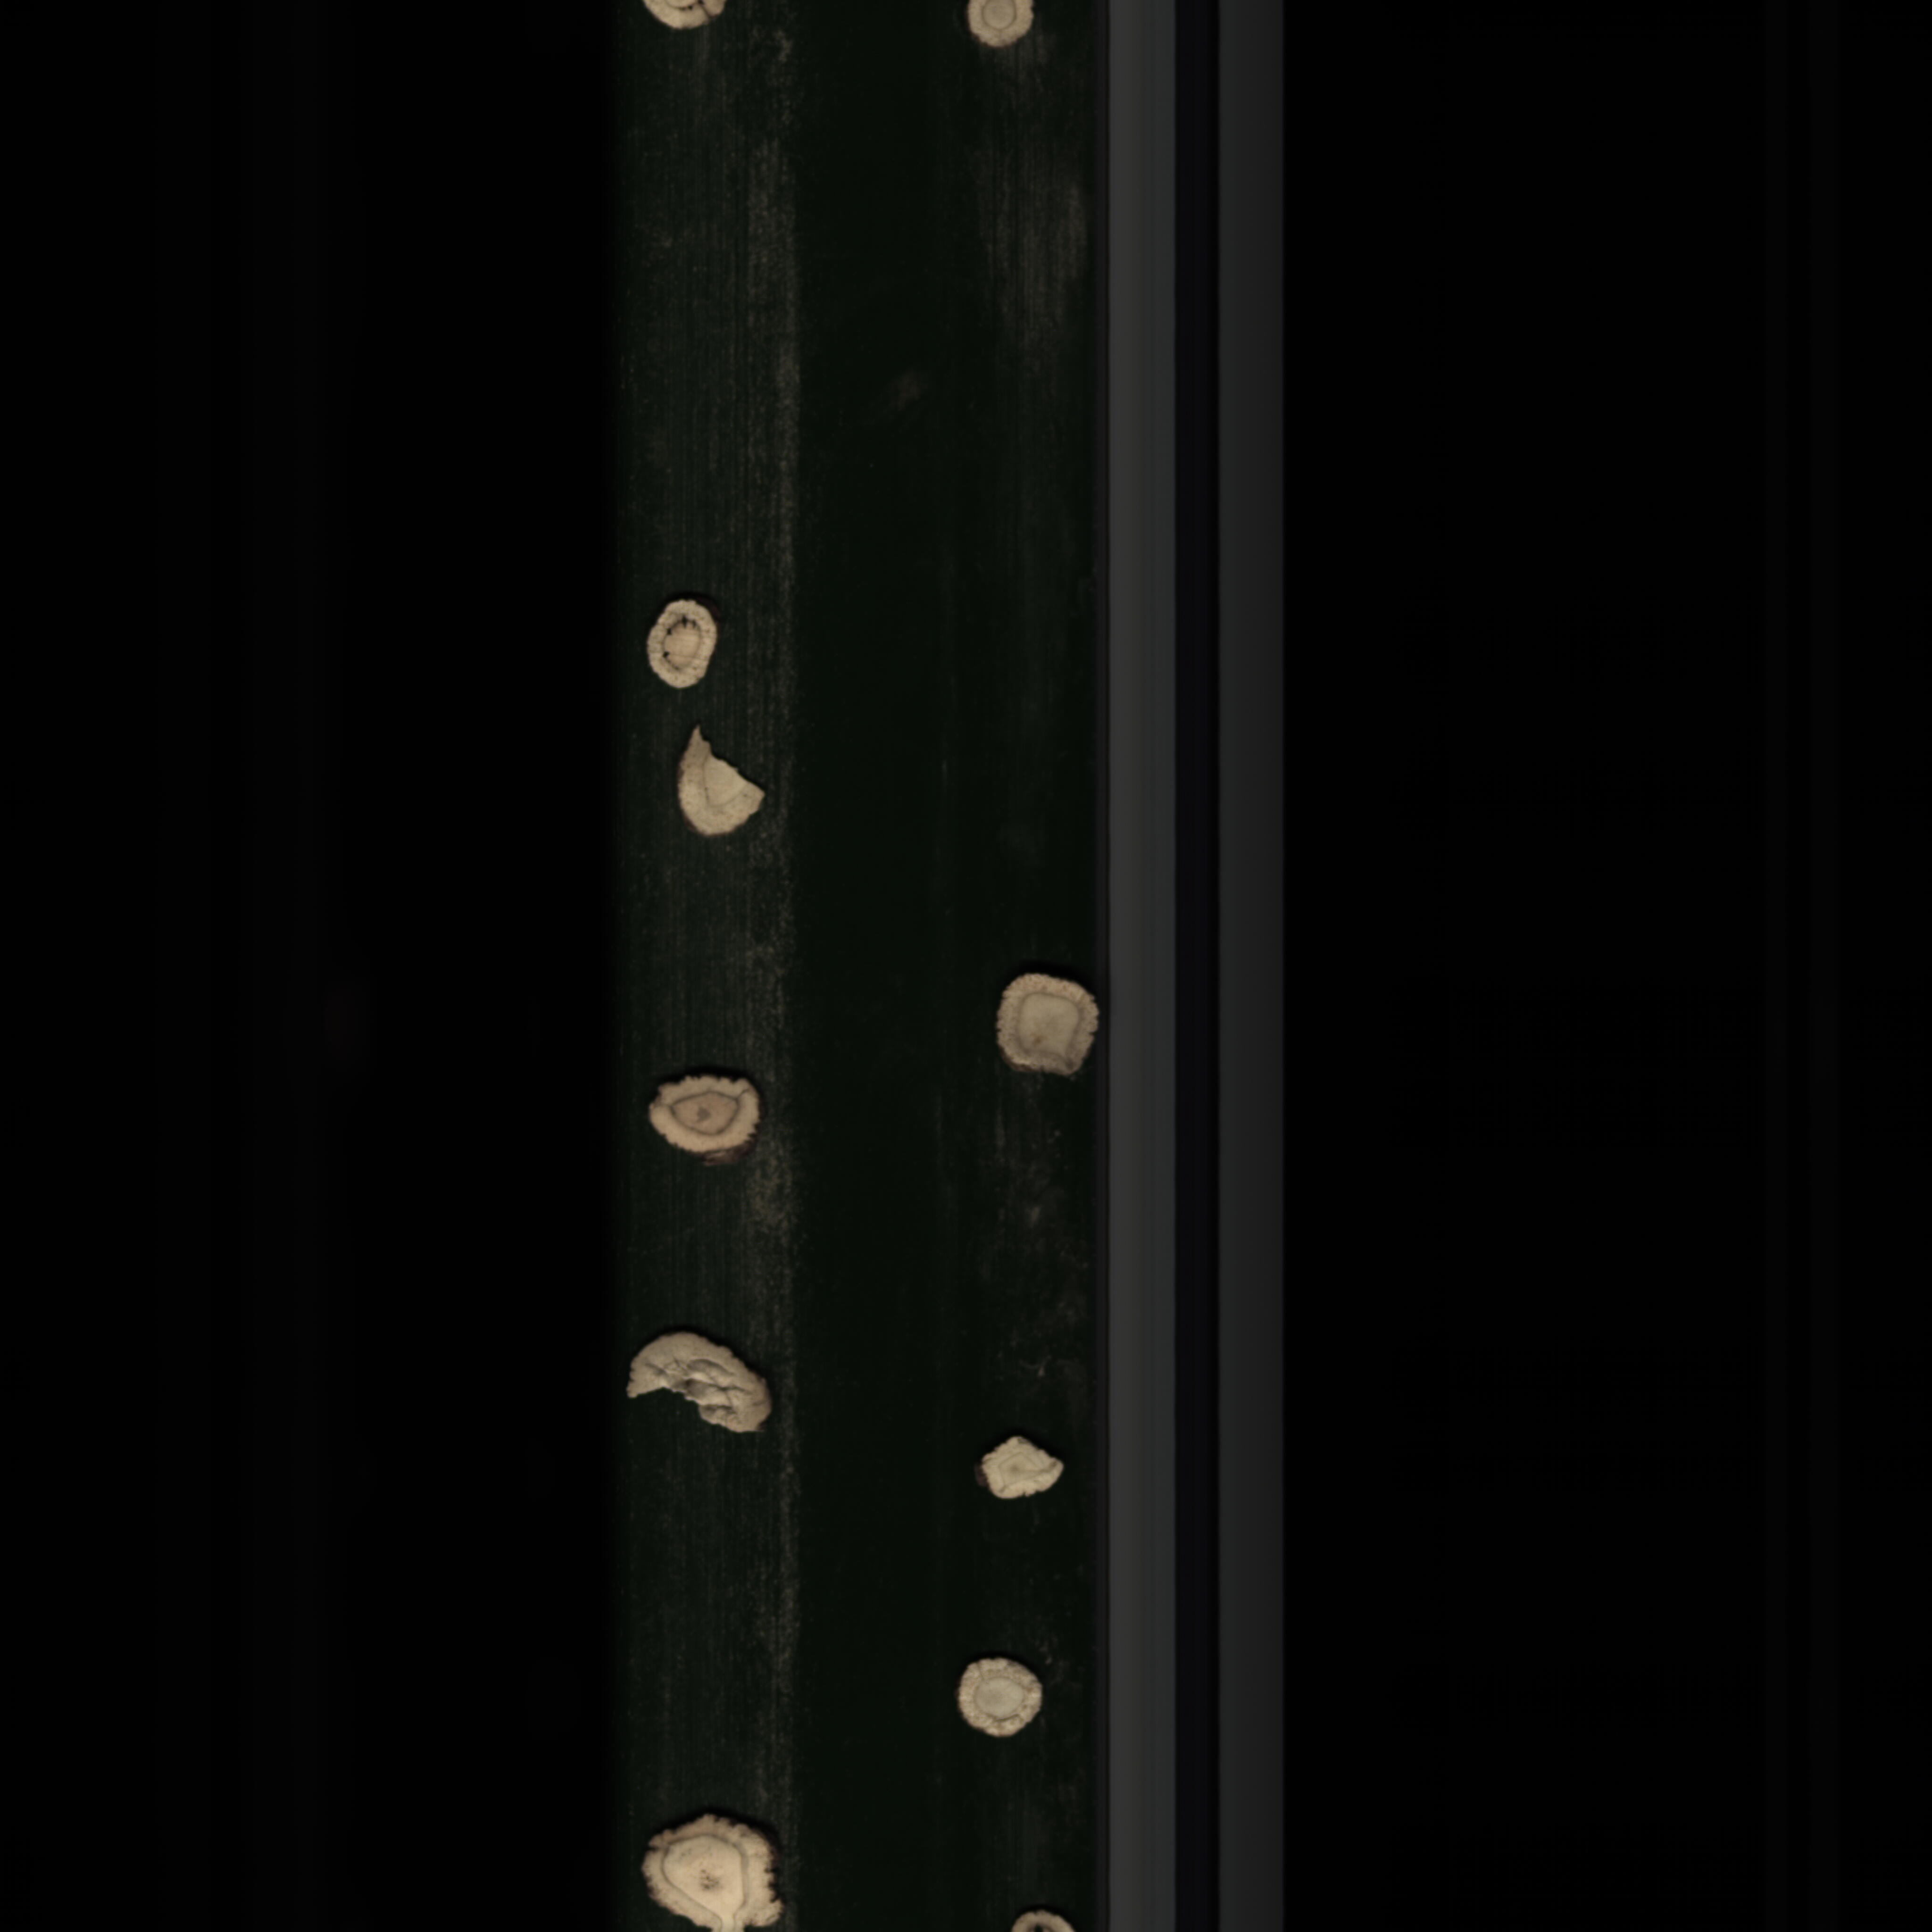debris: (619, 1322, 775, 1447), (671, 724, 780, 855), (970, 1431, 1070, 1514)
hole: (644, 596, 727, 690)
moldy: (637, 1070, 775, 1175)
